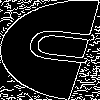U: (25, 25, 100, 69)
